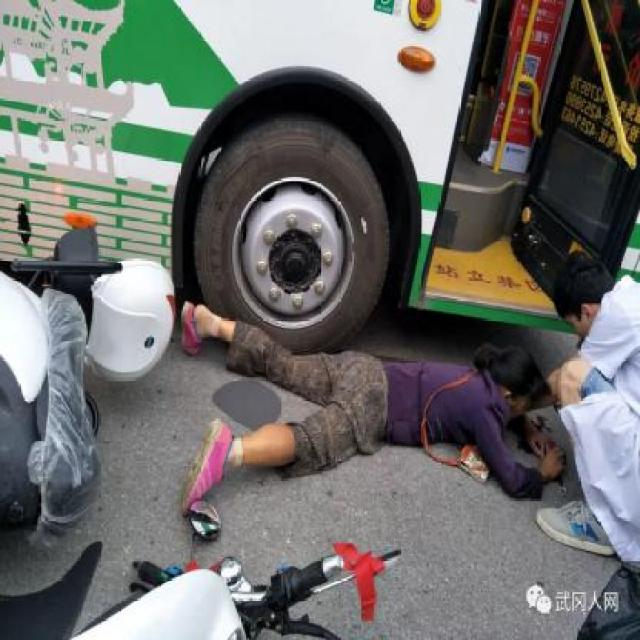fall: (174, 281, 580, 537)
